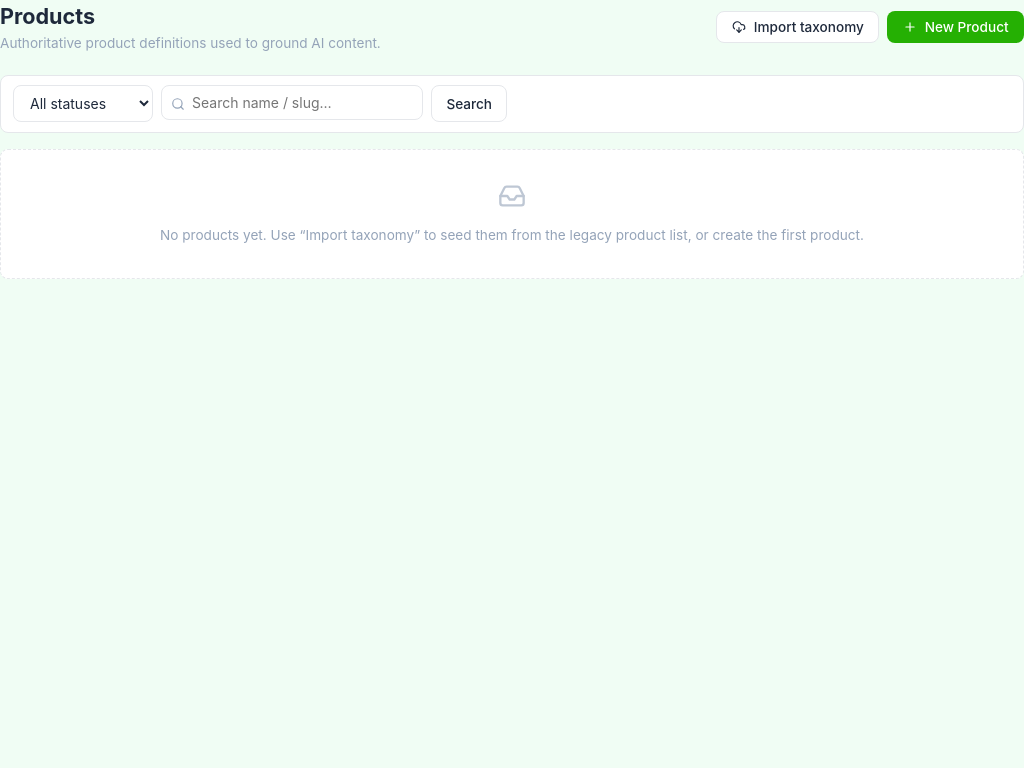
Test case: ProductListPage › refuses to submit the create form without a name
This screenshot has width=1024, height=768.
Click the button "New Product": (956, 27) [887,11,1023,44]
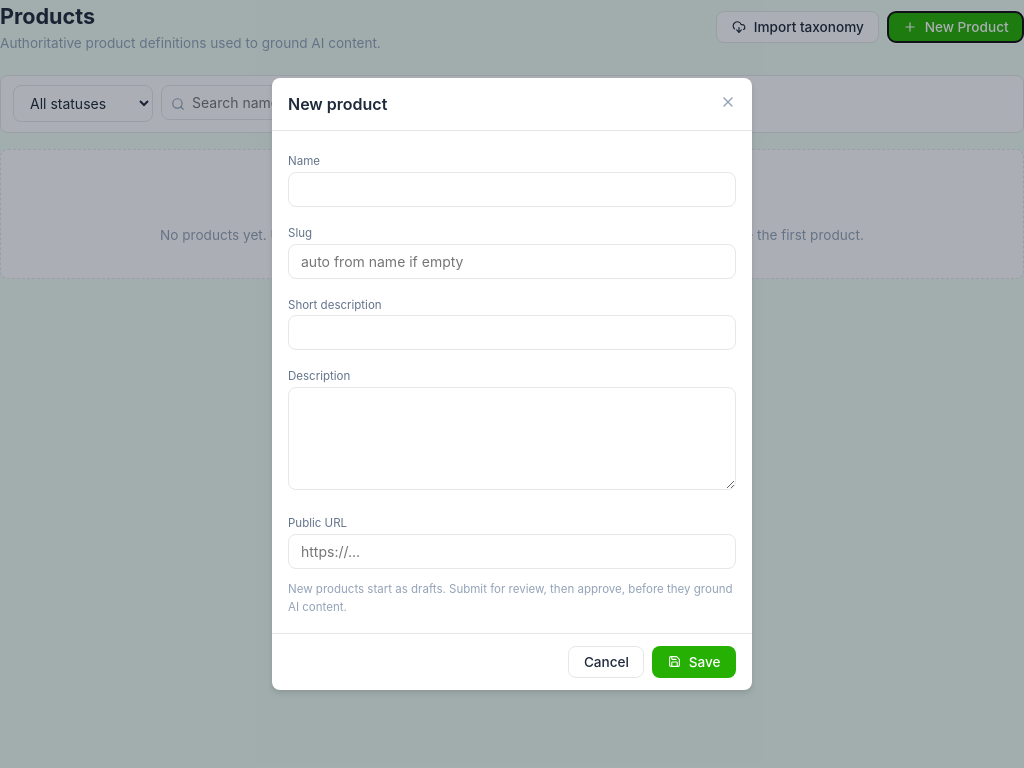
Click the button "Save": (694, 662) [652,646,736,678]
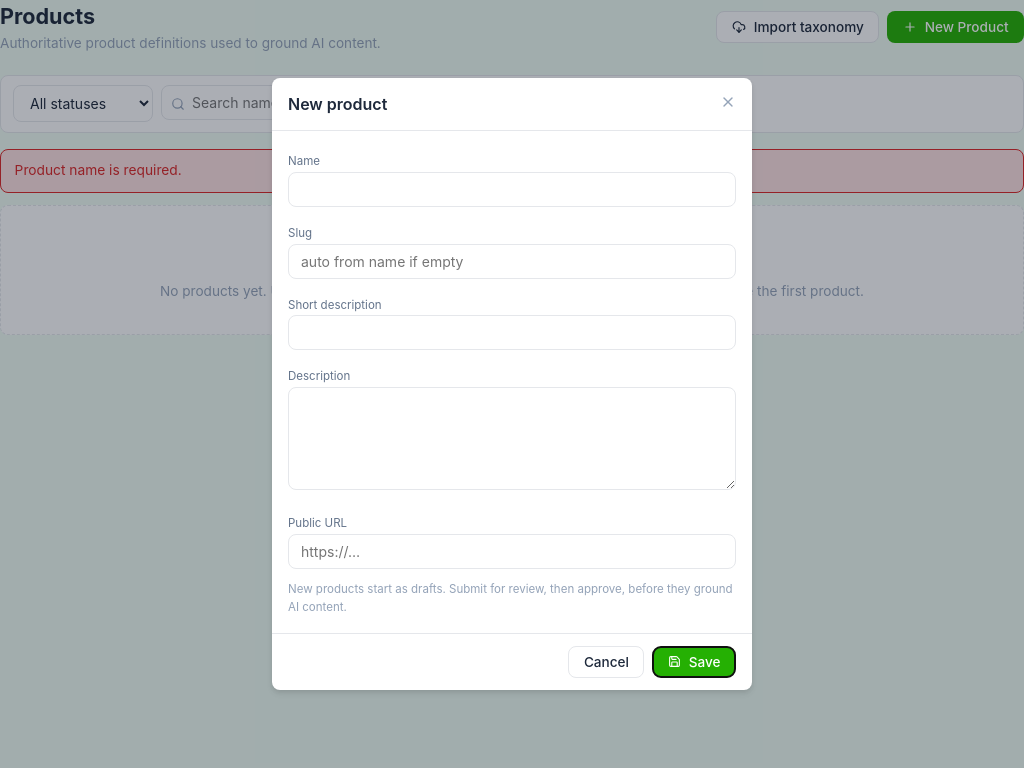
Expected: the text "Product name is required." is shown, [0,149,1023,193]
